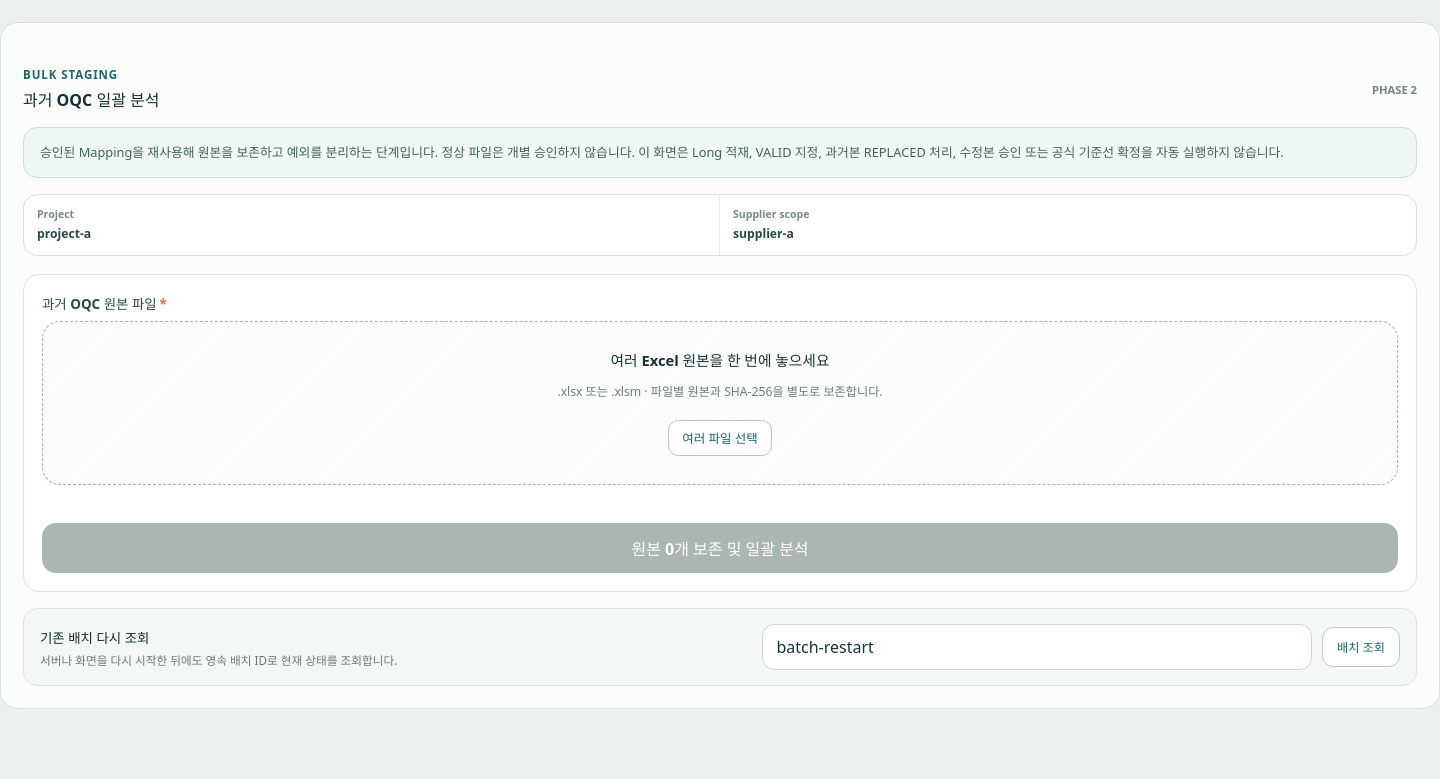
Scenario: BulkWorkspacePanel › DQ-P2-BULKUI-003 저장된 durable batch ID를 조회하고 project·supplier 불일치는 fail-closed한다
Expected: the field named "배치 ID" holds "batch-restart", [762,624,1312,670]
Click the button "배치 조회" at coordinates (1361, 647), box [1322,627,1400,667]
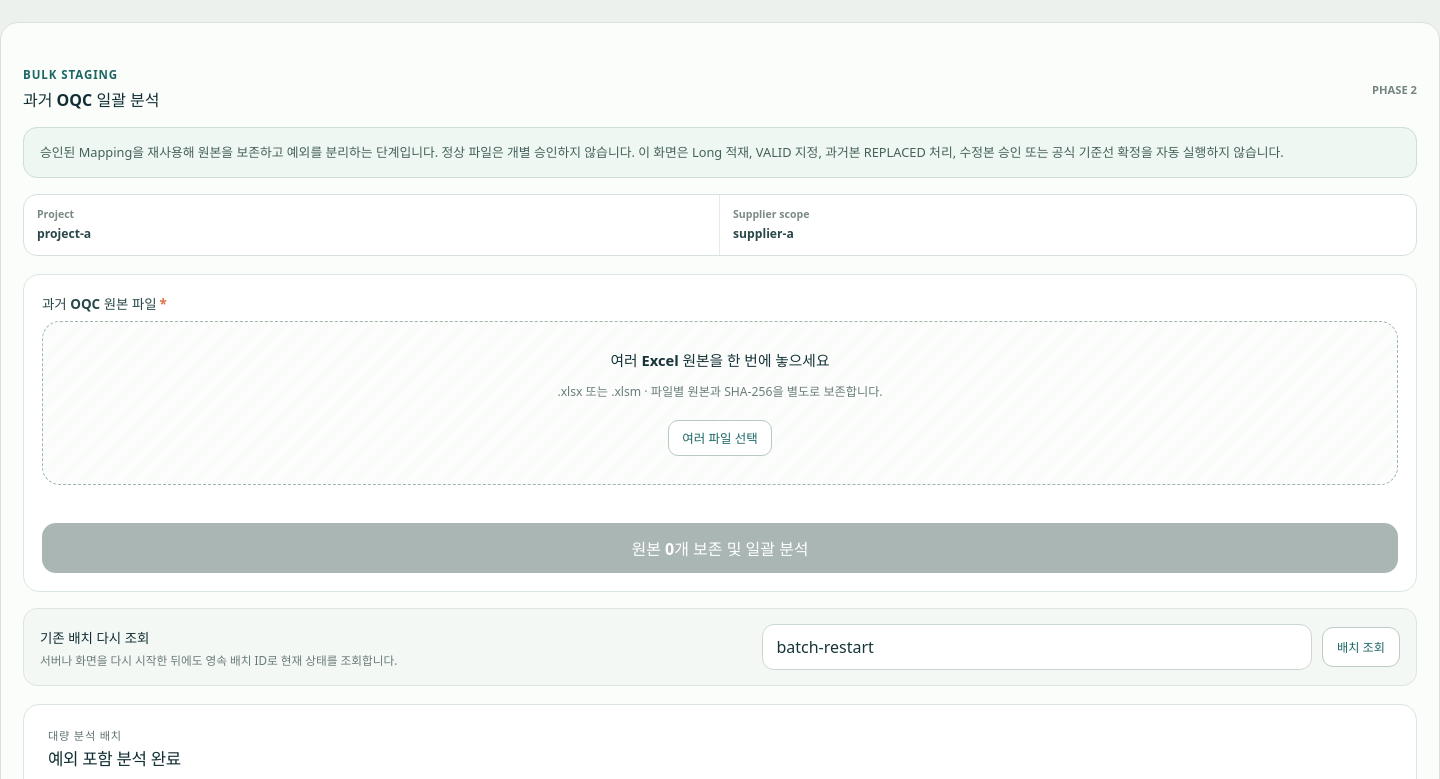
Replace the text in the field named "배치 ID" with "batch-wrong" at coordinates (1037, 647), box [762,624,1312,670]
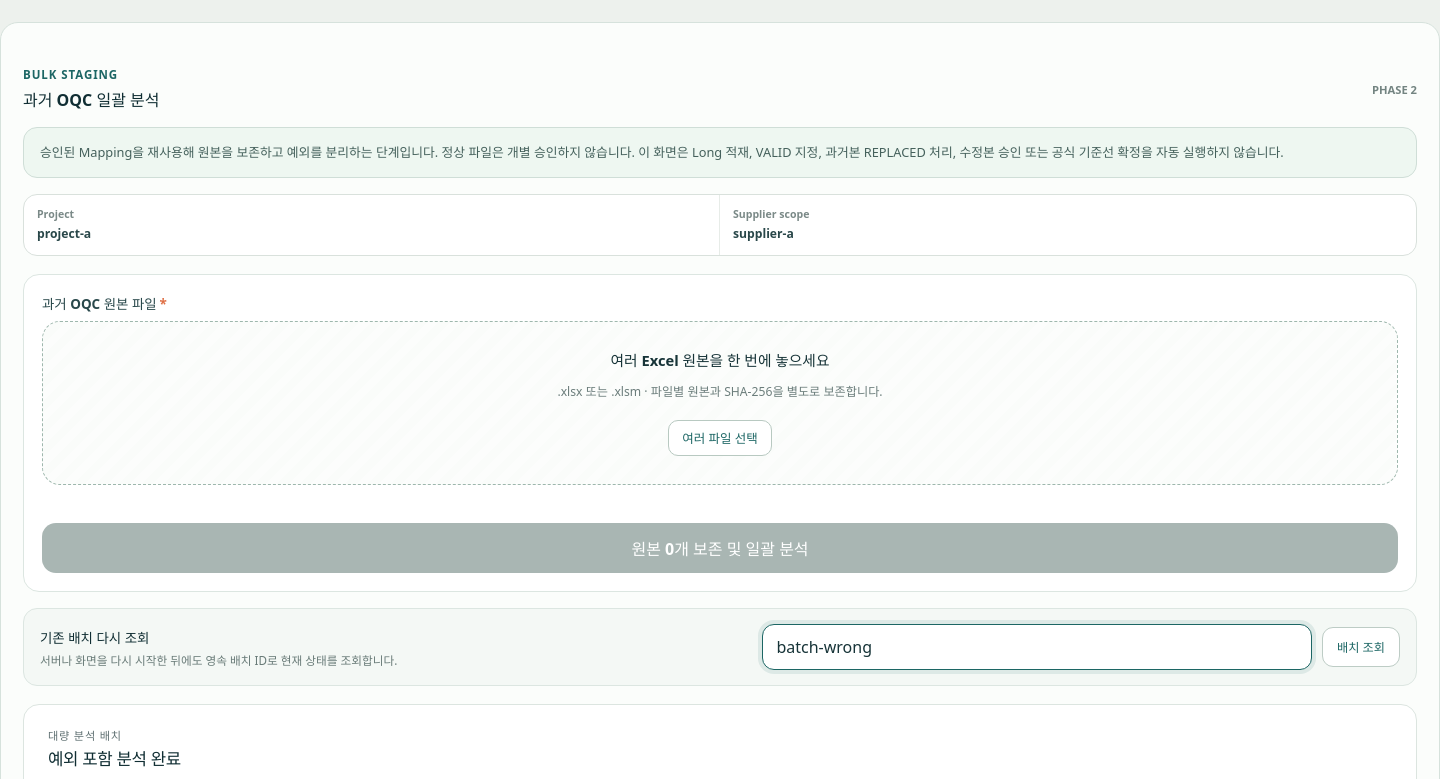
Click the button "배치 조회" at coordinates (1361, 647), box [1322,627,1400,667]
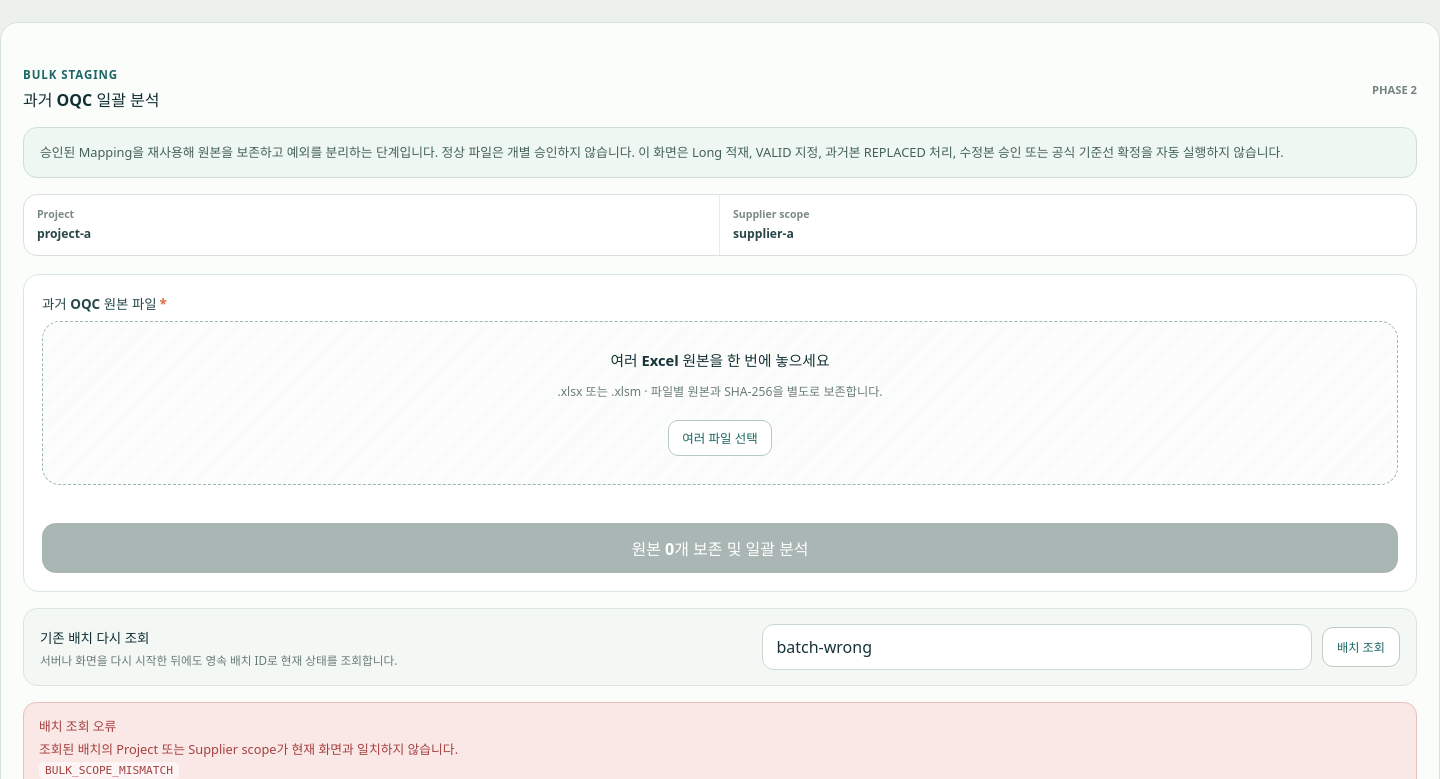
Expected: the text "조회된 배치의 Project 또는 Supplier scope가 현재 화면과 일치하지 않습니다." is shown, [39,740,458,758]
